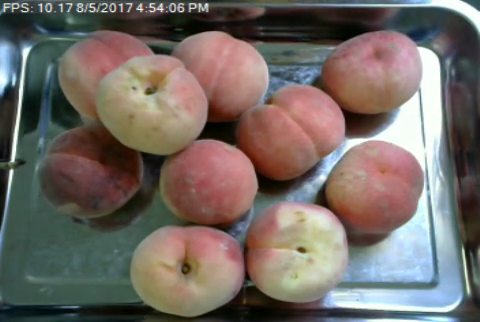Peach: (97, 54, 205, 155), (129, 224, 244, 318), (244, 202, 349, 303), (237, 86, 344, 181), (54, 30, 155, 130), (40, 122, 141, 219), (324, 139, 423, 236), (320, 27, 422, 116), (175, 30, 271, 121), (159, 139, 258, 225)
